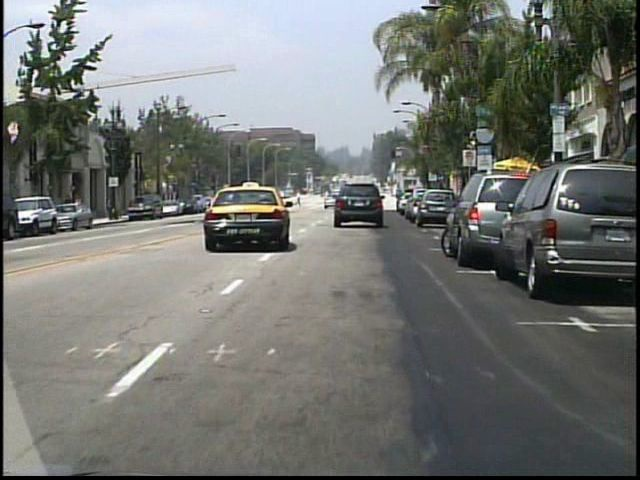person: (64, 189, 78, 222), (75, 192, 86, 222), (295, 190, 303, 207)
